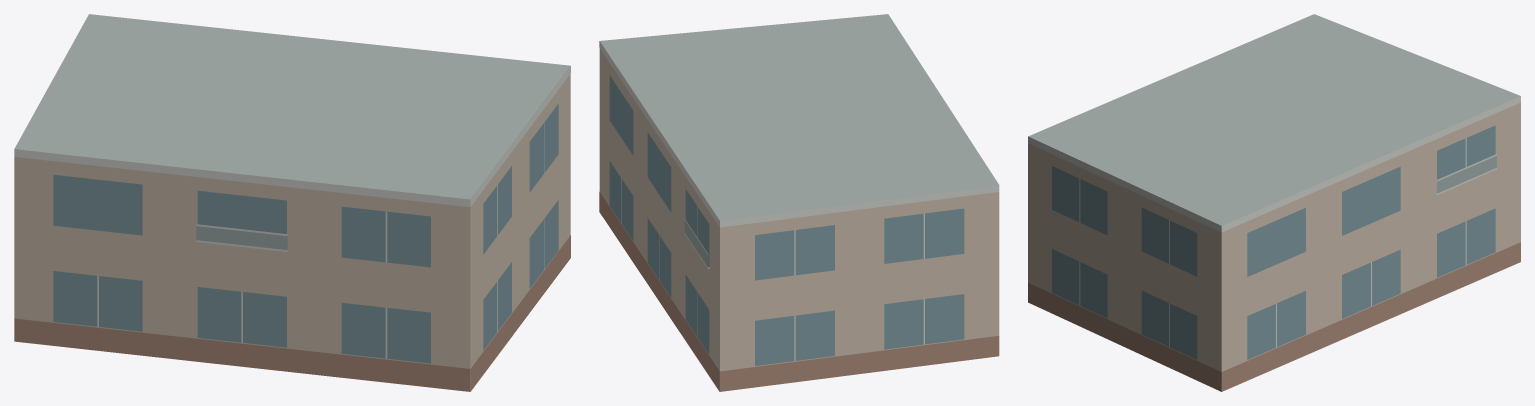
File: survey-upis-32998772.glb
3 views of the same model, side by side, from view 1: azimuth 30°, elevation 25°; view 2: azimuth 150°, elevation 25°; view 3: azimuth 270°, elevation 25° (orthographic). The views are drawn at different scales.
Visible parts, largest first — view 1: survey-upis-32998772.tmp; view 2: survey-upis-32998772.tmp; view 3: survey-upis-32998772.tmp.
Part boxes in pixels (box(x1,y1,x2,y2)): survey-upis-32998772.tmp: box(14, 14, 570, 391); survey-upis-32998772.tmp: box(599, 14, 999, 391); survey-upis-32998772.tmp: box(1028, 14, 1520, 391).
Bounding box in the file's own units: 16.7 × 6.1 × 16.41.
